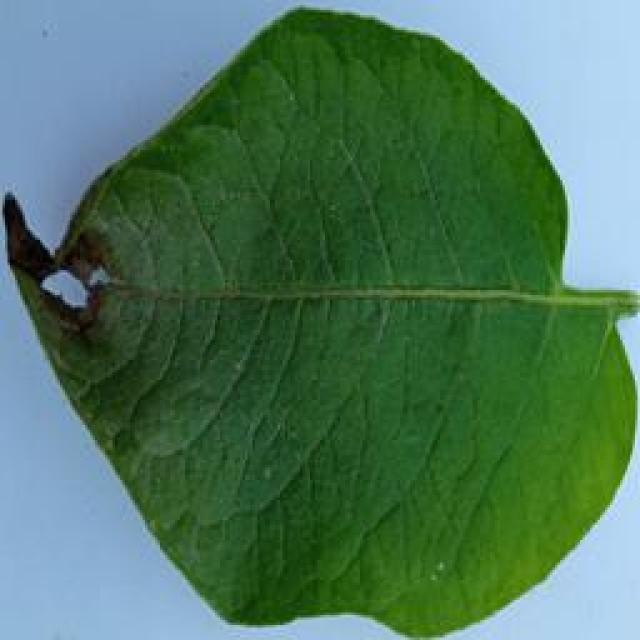Potato_Late_Blight: (4, 6, 625, 633)
